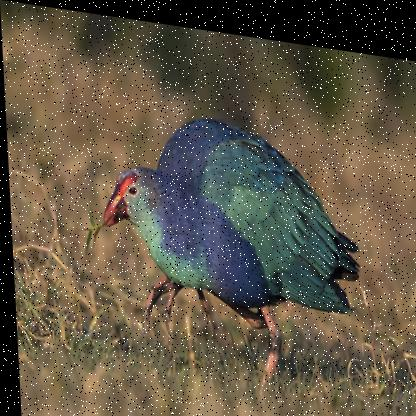Burung: (96, 96, 366, 380)
